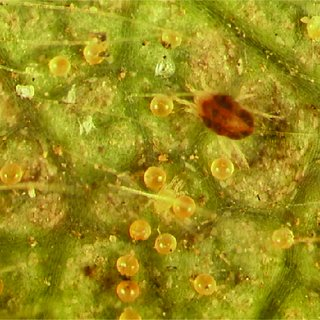Mites: (186, 74, 268, 170)
